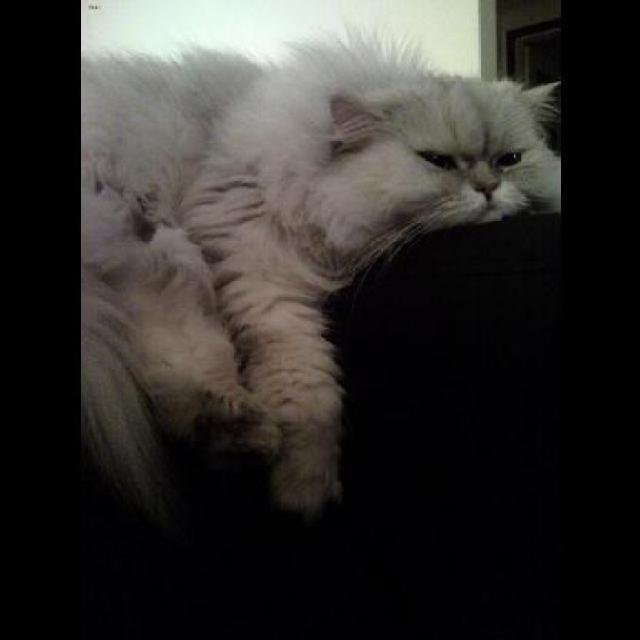unauthorized: (78, 26, 560, 522)
